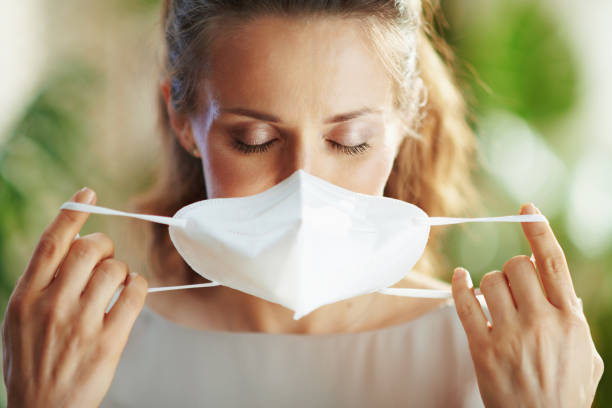with mask: (189, 1, 418, 314)
